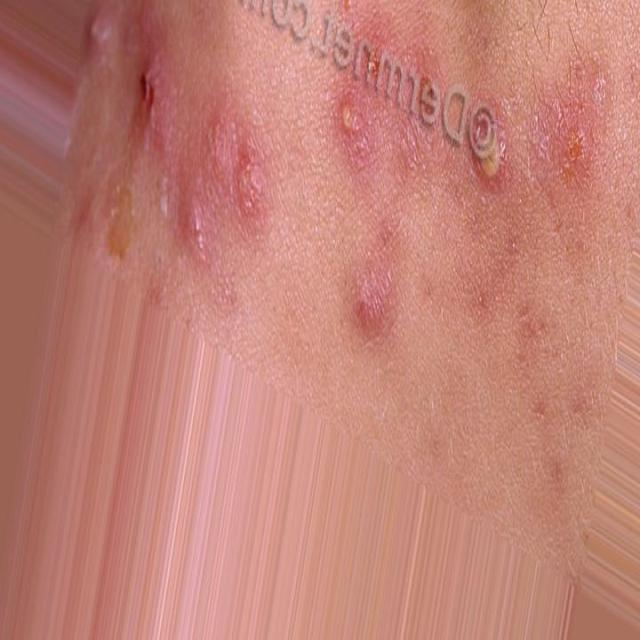acne: (214, 100, 284, 218), (330, 80, 386, 178), (350, 234, 408, 328), (478, 95, 528, 199), (364, 36, 446, 92), (177, 160, 213, 268), (559, 88, 597, 178), (132, 58, 174, 135), (78, 26, 140, 78)
